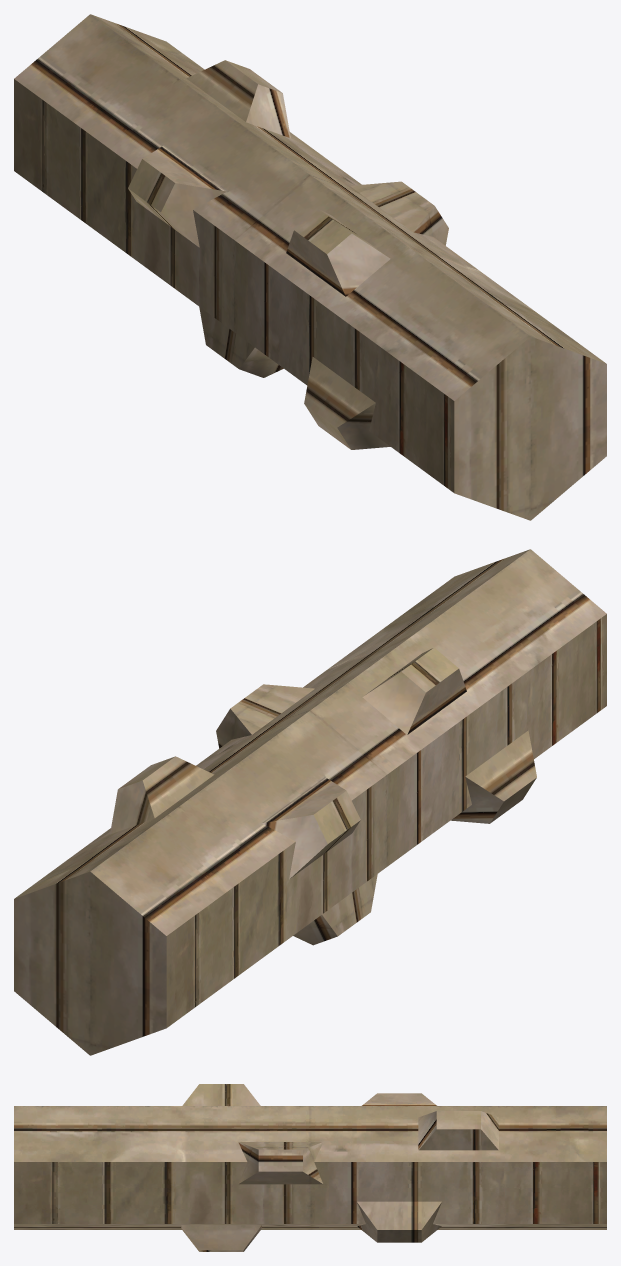
The model's file is Log.fbx.
3 renders of one model, top to bottom at view 1: azimuth 30°, elevation 25°; view 2: azimuth 150°, elevation 25°; view 3: azimuth 270°, elevation 25°, orthographic. The views are drawn at different scales.
Visible parts, largest first — view 1: mergedBlocks; view 2: mergedBlocks; view 3: mergedBlocks.
Part boxes in pixels (x1,y1,x2,y2): mergedBlocks: (14,14,606,520); mergedBlocks: (14,549,606,1055); mergedBlocks: (14,1084,606,1251).
Bounding box in the file's own units: 2.62 × 2.62 × 10.
1 material, 1 textured.
